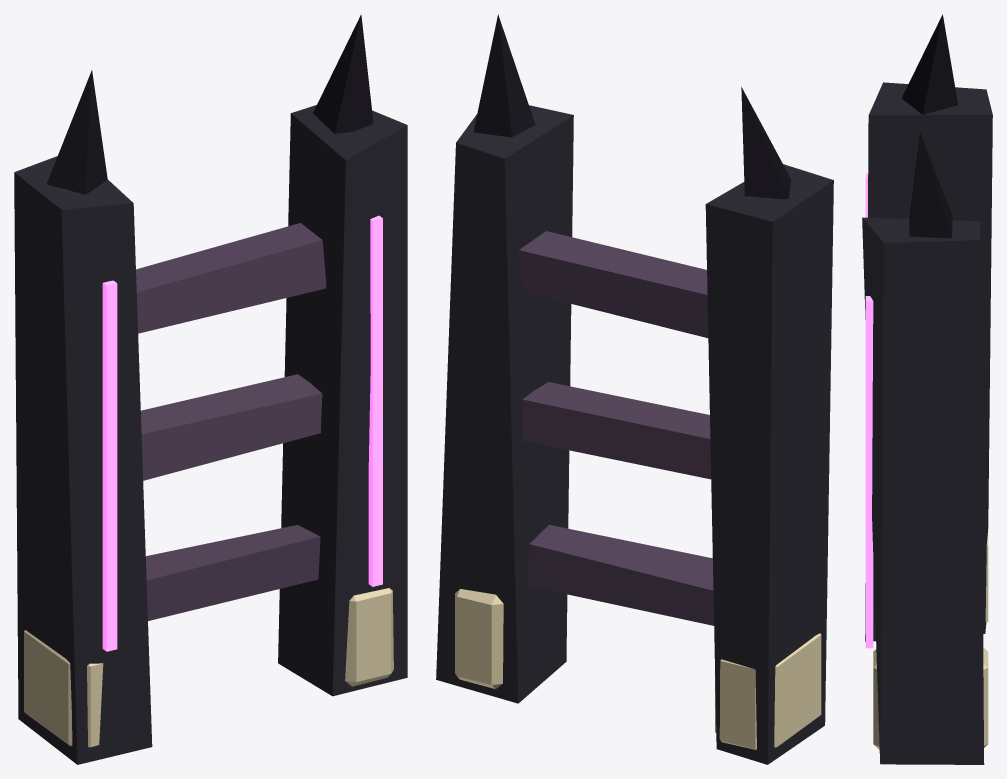
The model's file is gate_rib.glb.
The picture shows the model from 3 angles, left to right: view 1: azimuth 30°, elevation 25°; view 2: azimuth 150°, elevation 25°; view 3: azimuth 270°, elevation 25°; orthographic projection. The views are drawn at different scales.
Visible parts, largest first — view 1: gate_rib_corrupted, gate_rib_restored; view 2: gate_rib_corrupted, gate_rib_restored; view 3: gate_rib_corrupted, gate_rib_restored.
Boxes of the visible parts, x1,y1,x2,y2 form: gate_rib_corrupted: (14,14,407,764); gate_rib_restored: (24,588,393,747); gate_rib_corrupted: (436,14,833,764); gate_rib_restored: (455,589,821,749); gate_rib_corrupted: (862,14,992,764); gate_rib_restored: (873,529,988,749).
Size of the model in its own units: 0.9945 by 1.8 by 0.3412.
